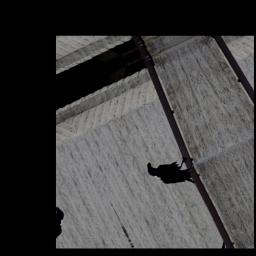Crow: (143, 145, 203, 201)
